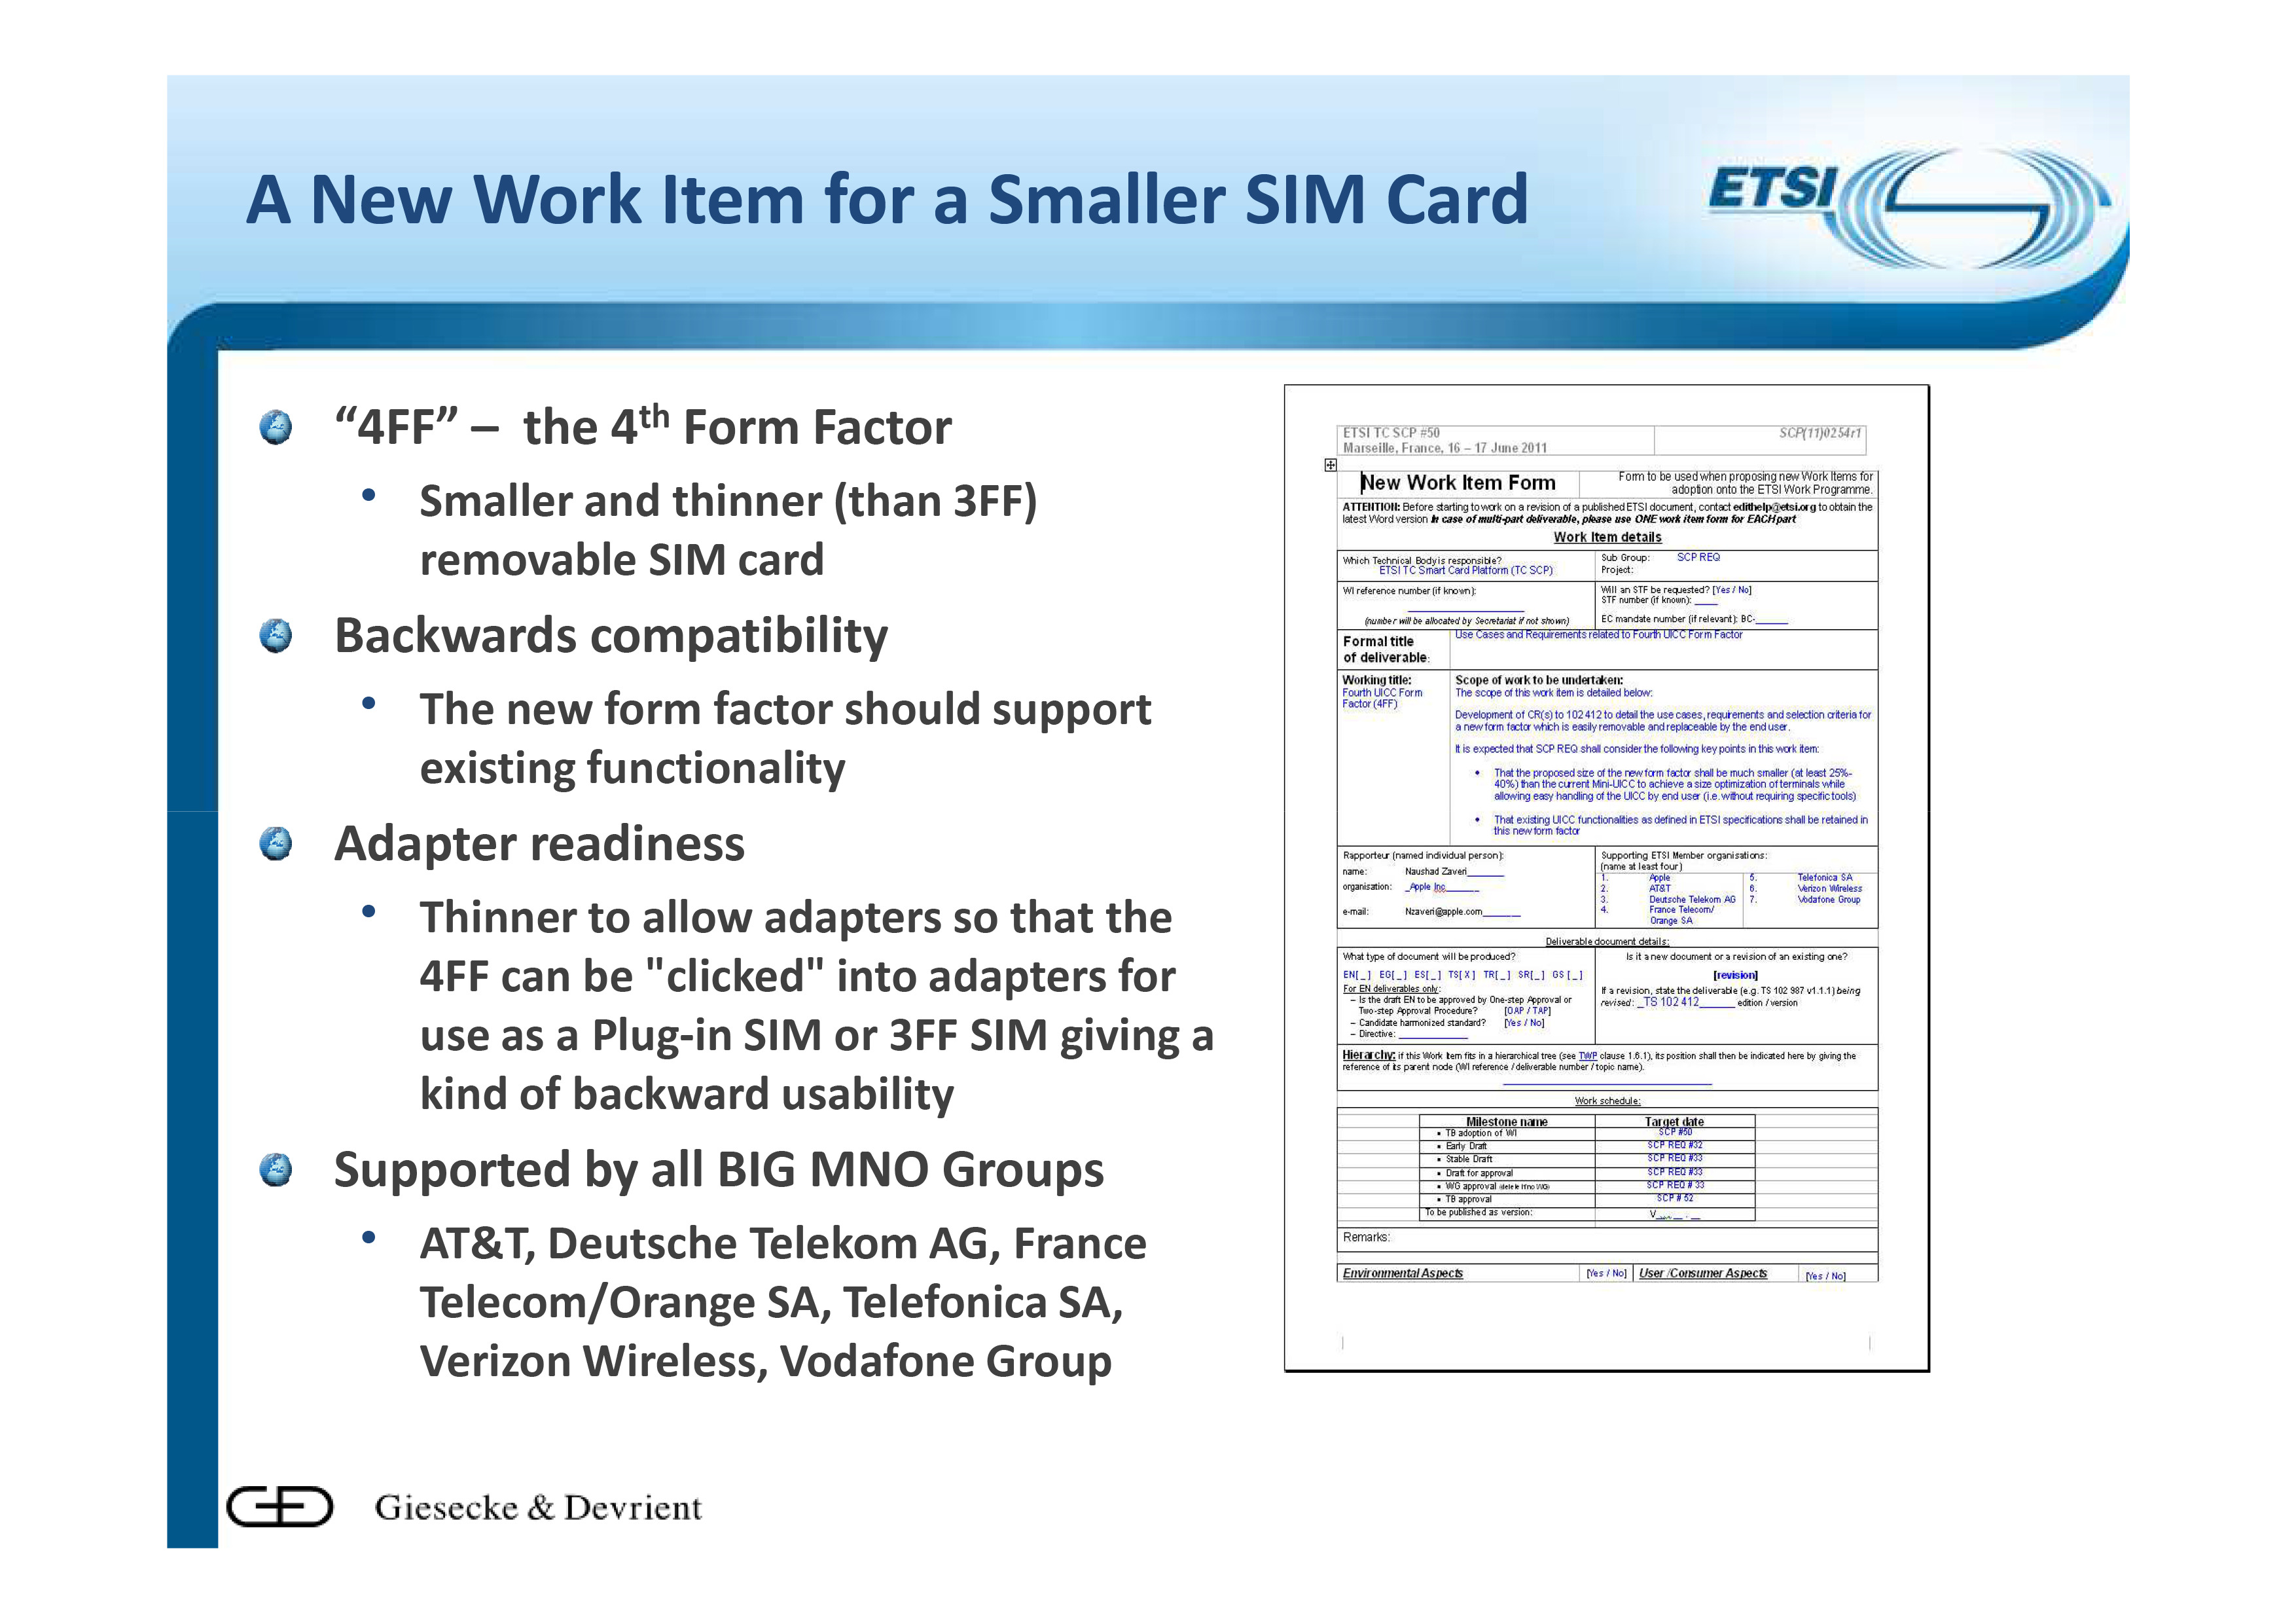figure: (1722, 149, 2106, 274), (232, 1482, 332, 1530)
section: (239, 172, 1541, 235), (335, 1147, 1101, 1198), (332, 400, 962, 448), (339, 613, 881, 662), (334, 820, 748, 871)
table: (1280, 381, 1934, 1368)
text: (413, 896, 1215, 1115), (409, 1214, 1148, 1377), (413, 687, 1153, 794), (395, 483, 1043, 581), (374, 1488, 713, 1530)
